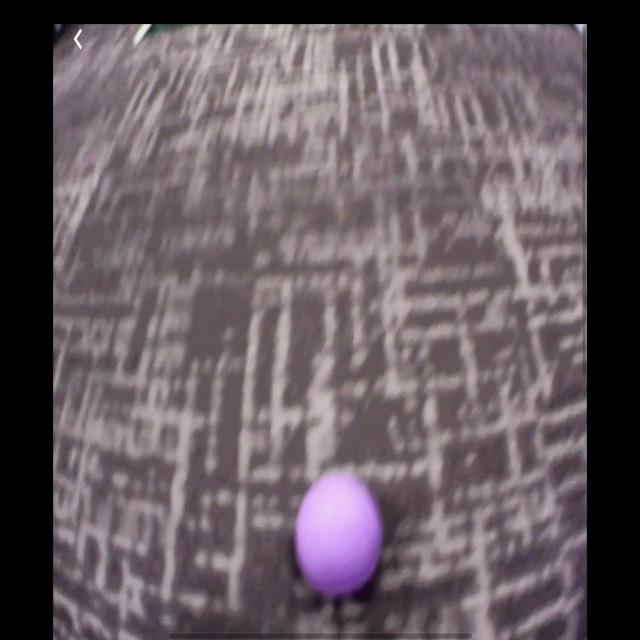ball: (298, 474, 380, 592)
